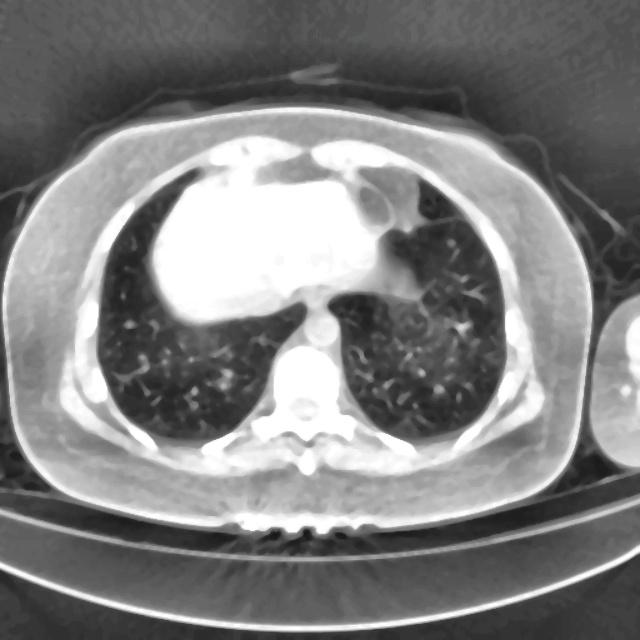covid: (2, 84, 595, 537)
